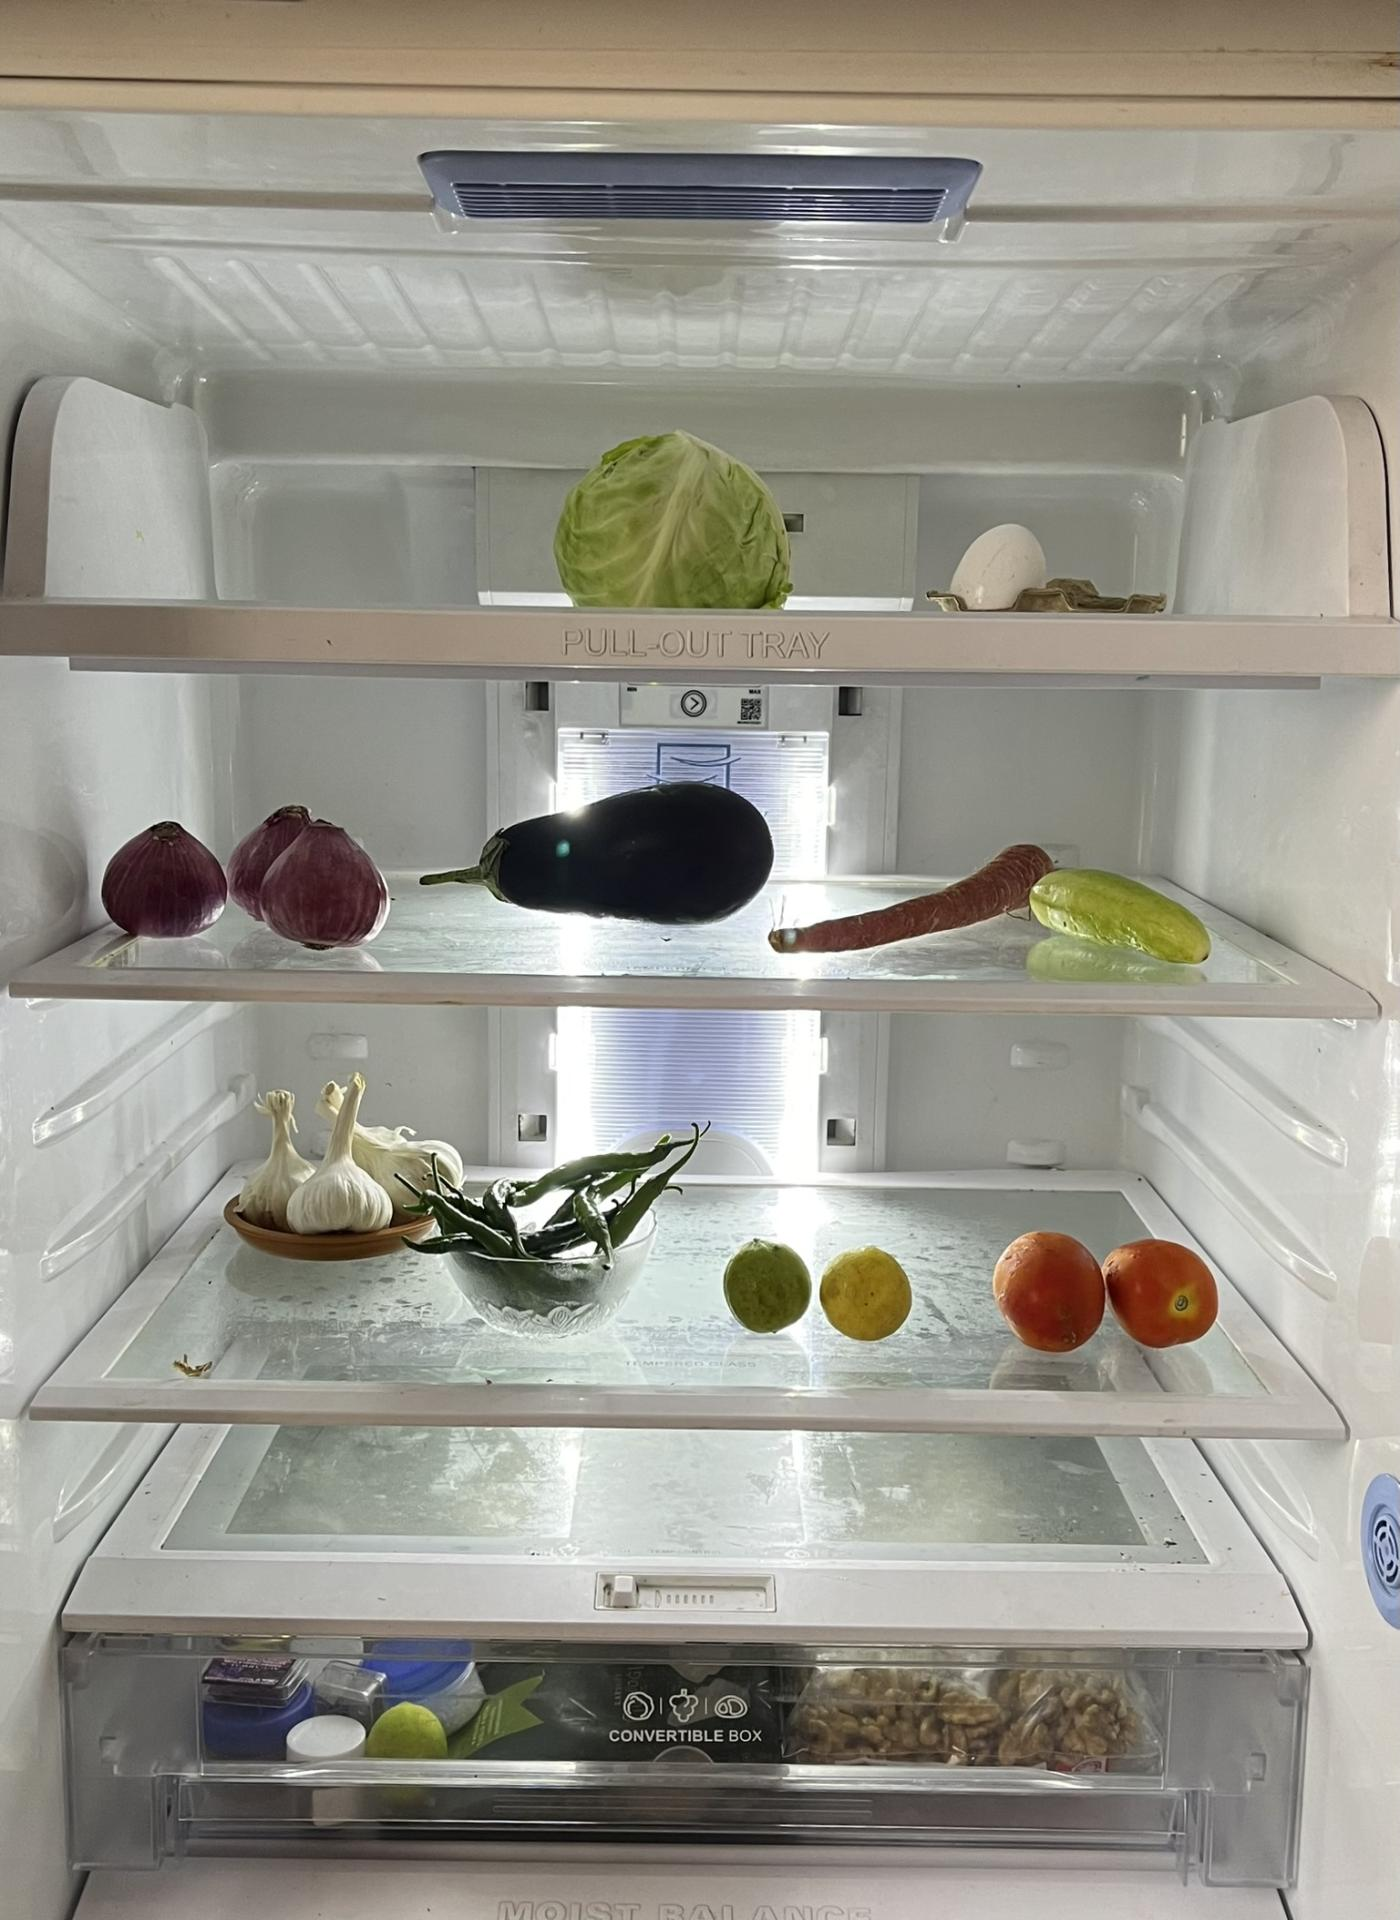brinjal: (426, 783, 778, 923)
cabbage: (549, 426, 795, 610)
carrots: (769, 853, 1054, 963)
chillies: (419, 1158, 686, 1327)
cucumber: (1030, 871, 1214, 964)
egg: (945, 519, 1051, 607)
garlic: (228, 1079, 459, 1245)
lemon: (717, 1225, 817, 1340), (819, 1236, 918, 1345)
onion: (112, 798, 397, 948)
tomato: (996, 1228, 1226, 1348)
